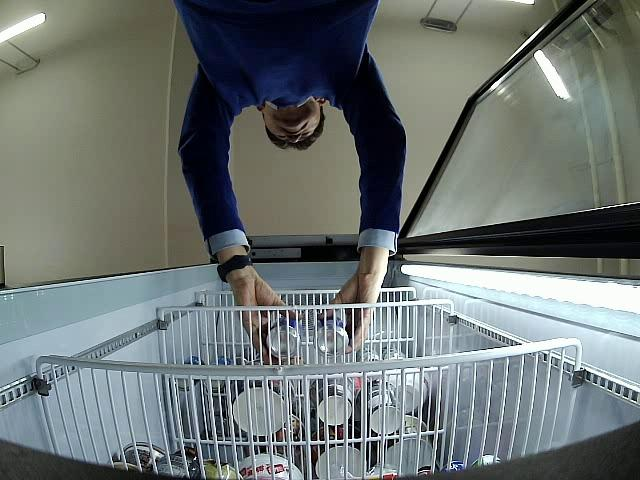00_hand: (318, 253, 390, 354), (228, 275, 304, 366)
13_pocariSweat: (267, 318, 303, 359), (317, 318, 350, 357)
